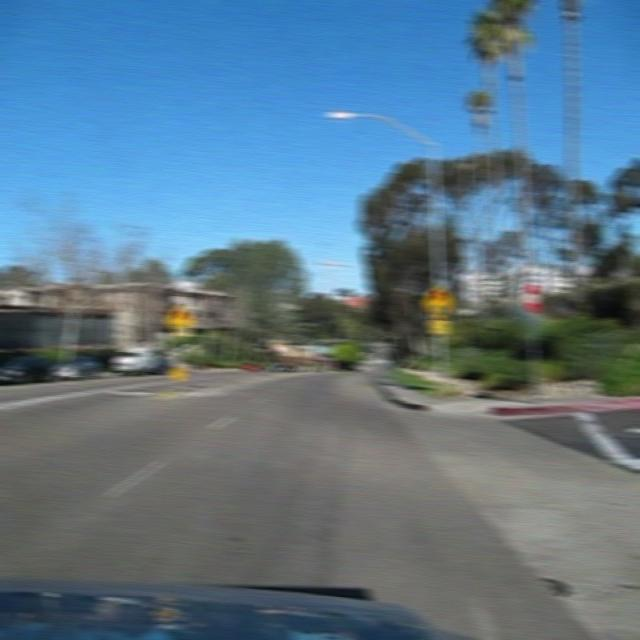stop: (522, 280, 540, 313)
